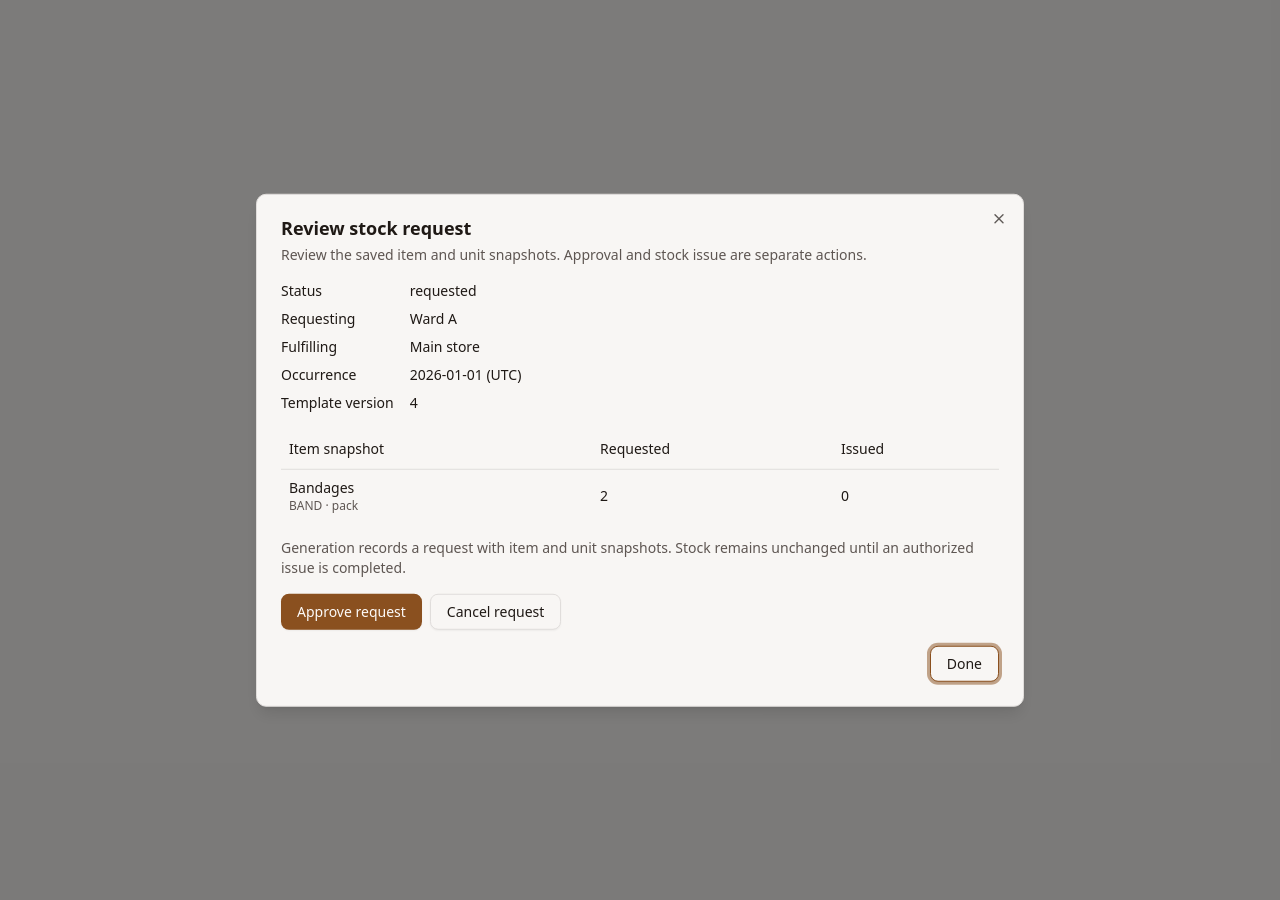
governed stock request issue › explicitly cancels a requested request without issuing stock
Click the button "Cancel request" at (496, 611), box top-left (430, 593), bottom-right (561, 629)
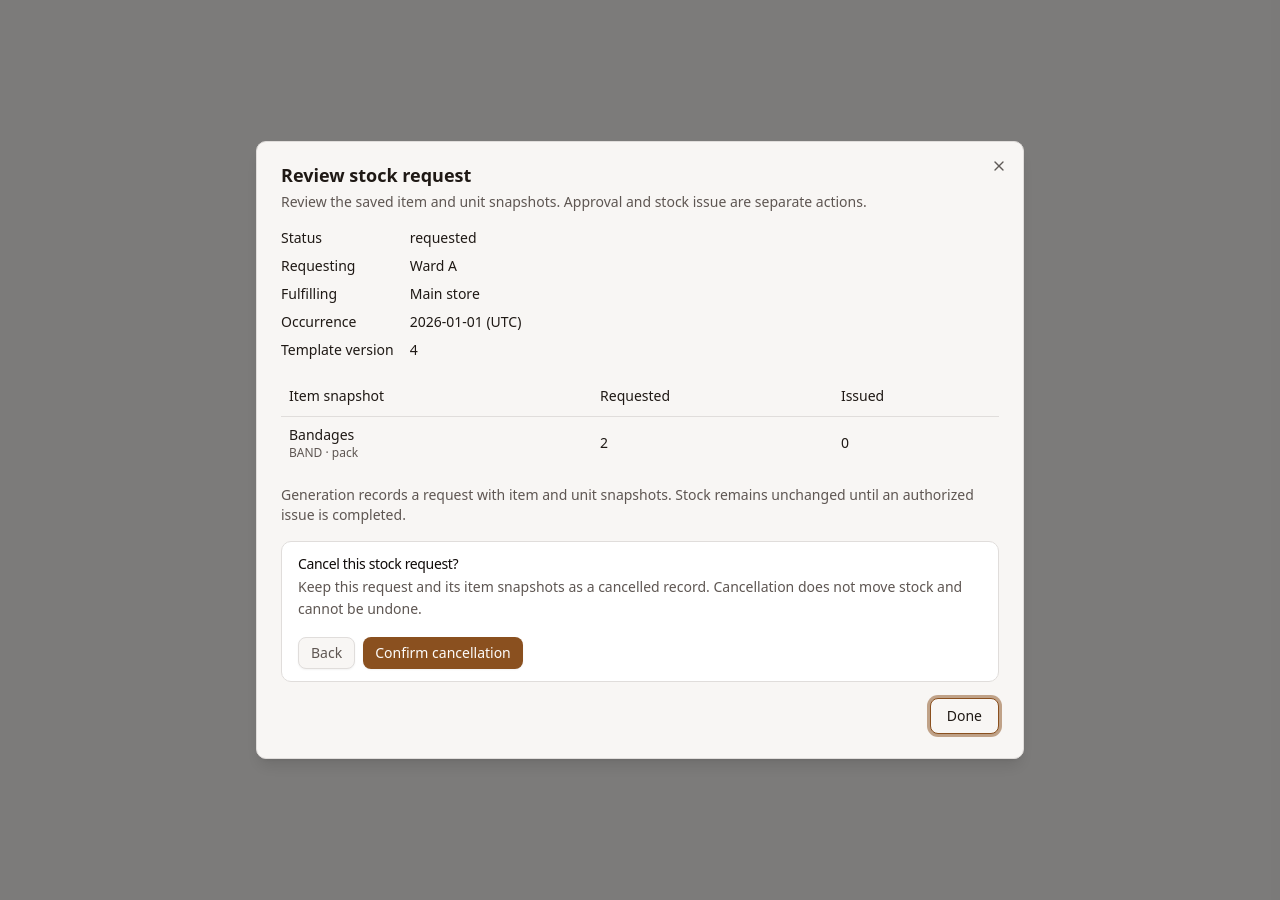
Click the button "Confirm cancellation" at (443, 653), box top-left (363, 637), bottom-right (523, 669)
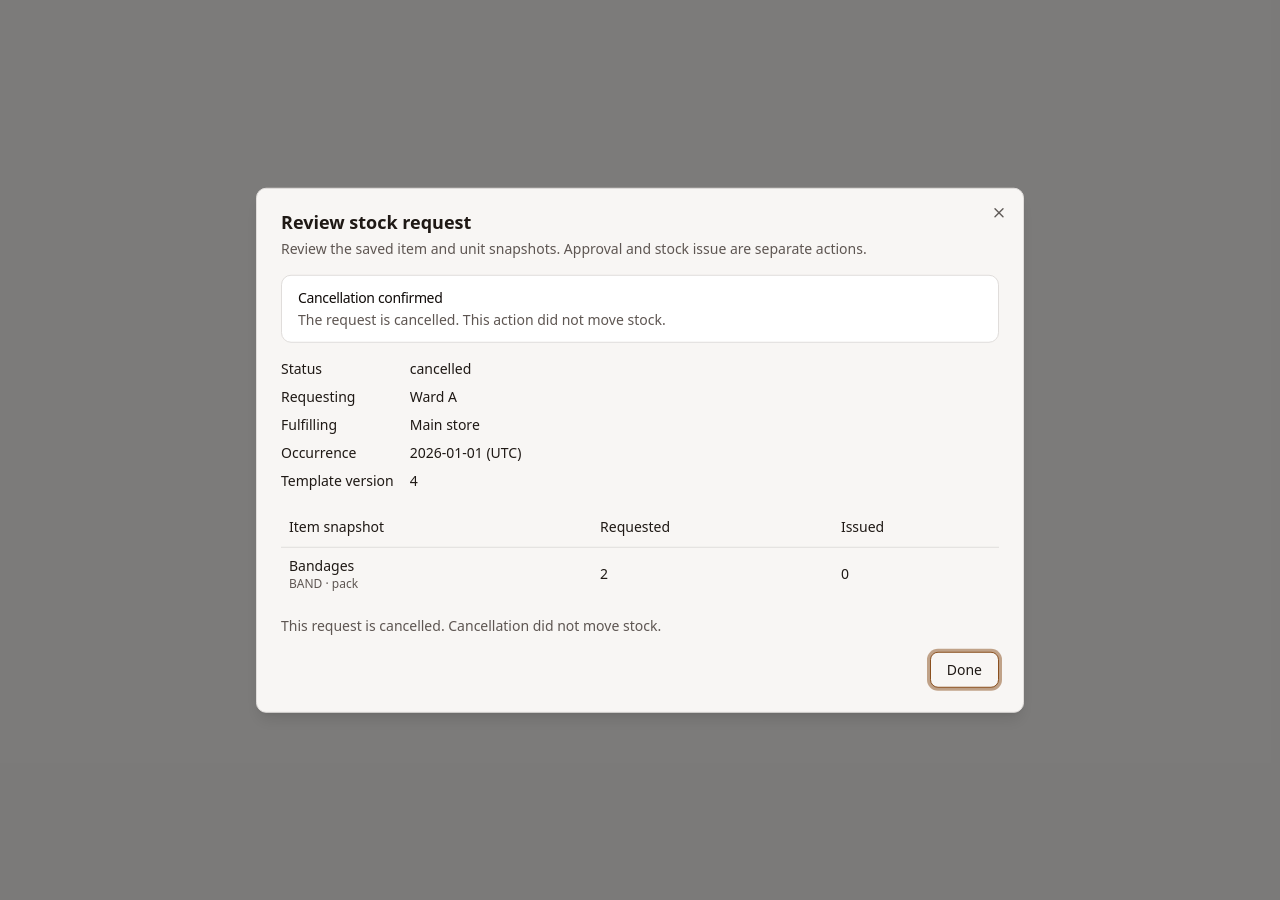
Expected: the button "Cancel request" is not shown
Expected: the text "Cancellation confirmed" is shown, top-left (298, 288), bottom-right (442, 307)
